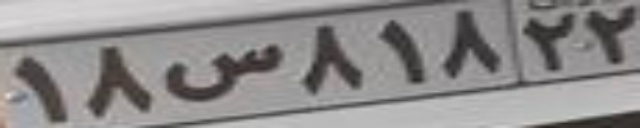1: (13, 54, 70, 121), (375, 19, 427, 83)
2: (521, 10, 574, 73), (583, 5, 637, 65)
8: (81, 44, 151, 114), (440, 9, 501, 79), (302, 25, 364, 91)
sin: (165, 43, 282, 101)
